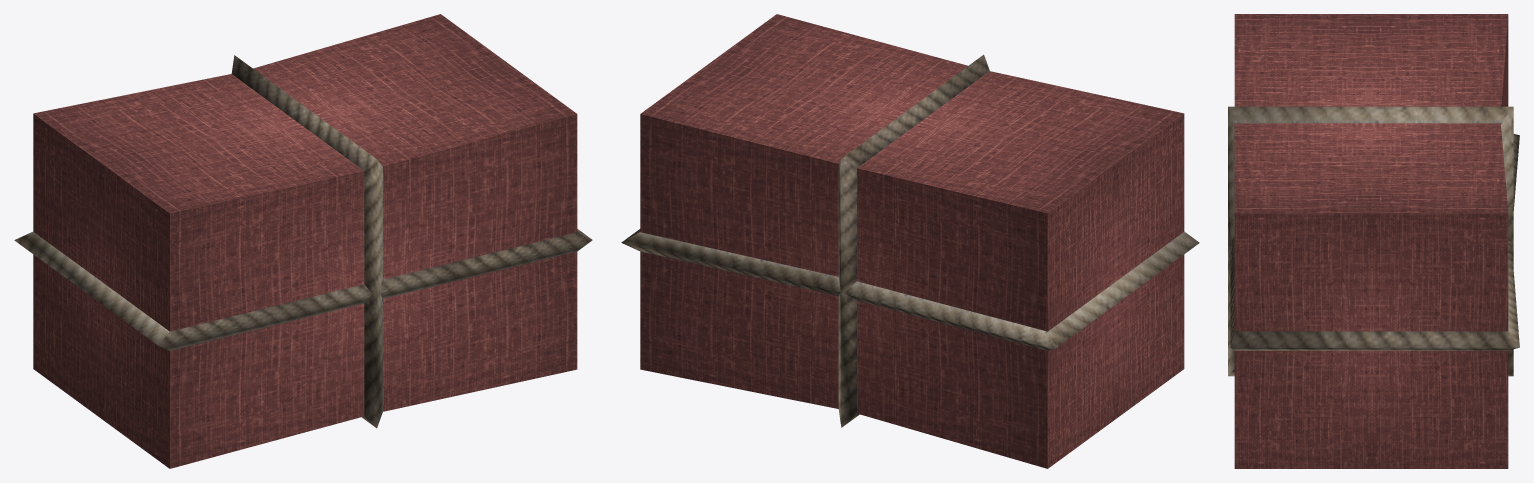
File: Package_Type_01_C.fbx
The picture shows the model from 3 angles, left to right: view 1: azimuth 30°, elevation 25°; view 2: azimuth 150°, elevation 25°; view 3: azimuth 270°, elevation 25°; orthographic projection.
Visible parts, largest first — view 1: Package_Type_01_C; view 2: Package_Type_01_C; view 3: Package_Type_01_C.
Part boxes in pixels (left/top/right/bottom): Package_Type_01_C: left=14, top=14, right=592, bottom=468; Package_Type_01_C: left=621, top=14, right=1199, bottom=468; Package_Type_01_C: left=1228, top=14, right=1519, bottom=468.
Bounding box in the file's own units: 1.11 × 0.6549 × 0.6425.
